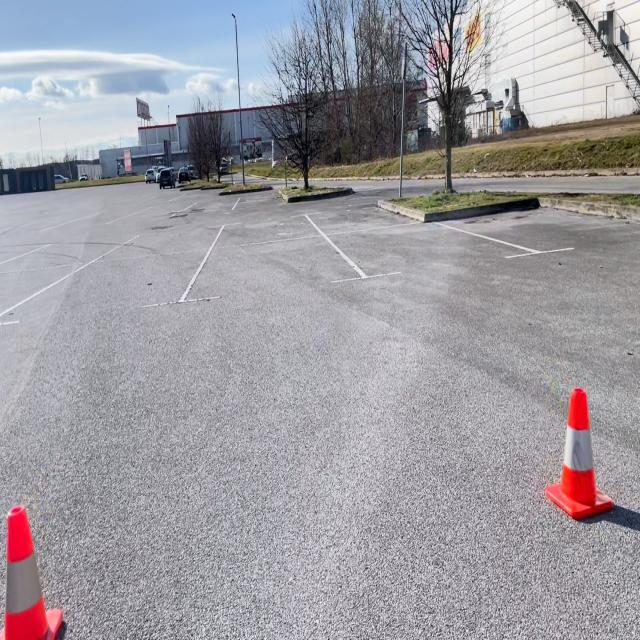orange_cone: (0, 504, 66, 639), (545, 389, 613, 519)
